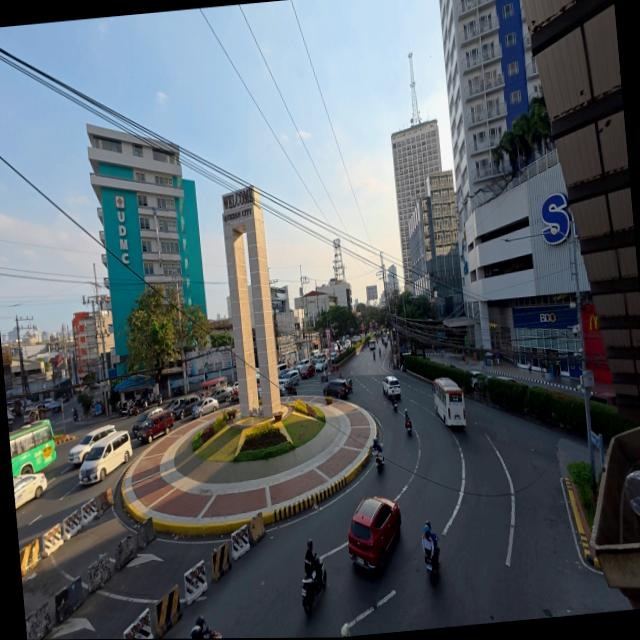Jeepneys: (200, 377, 228, 395)
bus: (9, 421, 55, 477), (433, 378, 466, 426)
car: (348, 497, 401, 570), (65, 423, 118, 467), (13, 473, 47, 509), (137, 410, 173, 443), (132, 408, 162, 436), (173, 396, 200, 419), (192, 396, 219, 418), (324, 379, 350, 399), (383, 376, 401, 398), (590, 392, 616, 405), (211, 387, 232, 403), (470, 370, 487, 387), (165, 398, 184, 413), (24, 407, 40, 424), (300, 363, 315, 379), (295, 359, 310, 371), (496, 375, 518, 383), (316, 358, 328, 371), (42, 398, 54, 408), (330, 351, 339, 362), (230, 382, 238, 390)
motorcycle: (302, 558, 327, 615), (199, 617, 223, 637), (425, 555, 440, 581), (426, 556, 439, 581), (371, 448, 384, 472), (120, 401, 133, 416), (149, 394, 163, 406), (229, 390, 239, 404), (285, 384, 297, 395), (128, 405, 139, 416), (405, 419, 412, 435), (319, 370, 328, 382), (392, 396, 398, 411), (347, 378, 353, 391), (73, 412, 78, 421), (373, 352, 375, 360), (379, 348, 381, 356)
vans: (79, 431, 132, 484), (280, 370, 300, 385), (295, 359, 310, 371), (277, 364, 288, 373)
